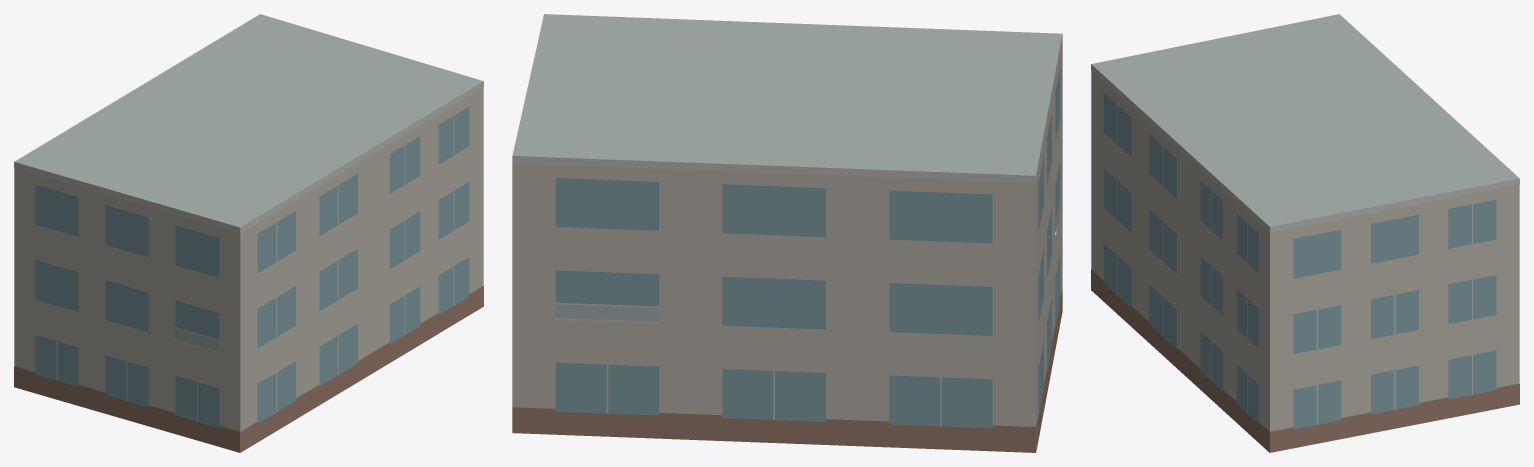
File: survey-upis-32698026.glb
3 views of the same model, side by side, from view 1: azimuth 30°, elevation 25°; view 2: azimuth 150°, elevation 25°; view 3: azimuth 270°, elevation 25° (orthographic). The views are drawn at different scales.
Parts seen in each view (by area): view 1: survey-upis-32698026.tmp; view 2: survey-upis-32698026.tmp; view 3: survey-upis-32698026.tmp.
Boxes of the visible parts, bbox=[...] form: survey-upis-32698026.tmp: bbox=[14, 14, 483, 452]; survey-upis-32698026.tmp: bbox=[512, 14, 1062, 452]; survey-upis-32698026.tmp: bbox=[1091, 14, 1519, 452].
Size of the model in its own units: 18.48 by 9.15 by 15.74.
